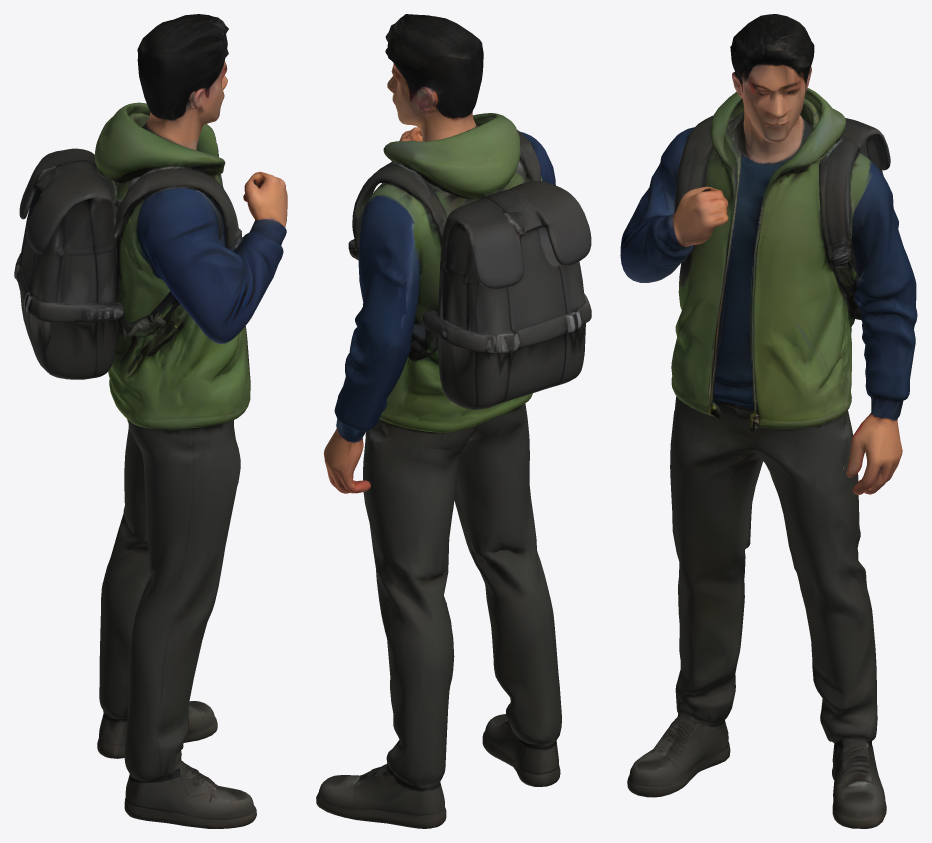
File: HumanFigure_game.glb
The picture shows the model from 3 angles, left to right: view 1: azimuth 30°, elevation 25°; view 2: azimuth 150°, elevation 25°; view 3: azimuth 270°, elevation 25°; orthographic projection. The views are drawn at different scales.
Parts seen in each view (by area): view 1: tripo_node_c437f405-2925-4c64-af59-4b4f3d902688; view 2: tripo_node_c437f405-2925-4c64-af59-4b4f3d902688; view 3: tripo_node_c437f405-2925-4c64-af59-4b4f3d902688.
Part boxes in pixels (<box>): tripo_node_c437f405-2925-4c64-af59-4b4f3d902688: <box>14,14,287,828</box>; tripo_node_c437f405-2925-4c64-af59-4b4f3d902688: <box>316,14,591,828</box>; tripo_node_c437f405-2925-4c64-af59-4b4f3d902688: <box>620,14,917,828</box>.
Bounding box in the file's own units: 0.3082 × 0.9998 × 0.3463.
1 material, 1 textured.
